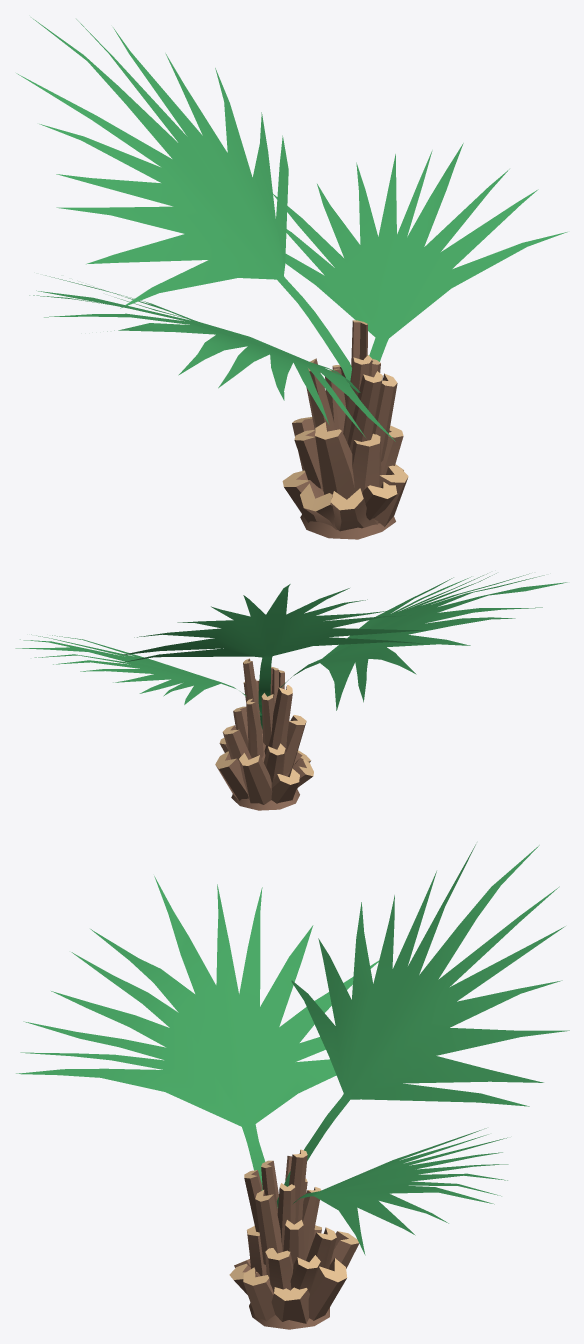
File: plant_cab_B.fbx
3 renders of one model, top to bottom at view 1: azimuth 30°, elevation 25°; view 2: azimuth 150°, elevation 25°; view 3: azimuth 270°, elevation 25°, orthographic. The views are drawn at different scales.
Parts seen in each view (by area): view 1: leaf_cab_B_02, leaf_cab_B_03, plant_cab_B_trunk, leaf_cab_B_01; view 2: plant_cab_B_trunk, leaf_cab_B_02, leaf_cab_B_01, leaf_cab_B_03; view 3: leaf_cab_B_01, leaf_cab_B_02, plant_cab_B_trunk, leaf_cab_B_03.
Part boxes in pixels (bbox=[...]): leaf_cab_B_02: bbox=[16, 17, 351, 384]; leaf_cab_B_03: bbox=[273, 143, 567, 361]; plant_cab_B_trunk: bbox=[282, 320, 408, 539]; leaf_cab_B_01: bbox=[29, 275, 395, 441]; plant_cab_B_trunk: bbox=[215, 658, 313, 810]; leaf_cab_B_02: bbox=[120, 584, 426, 714]; leaf_cab_B_01: bbox=[280, 573, 567, 710]; leaf_cab_B_03: bbox=[15, 634, 262, 729]; leaf_cab_B_01: bbox=[16, 876, 378, 1207]; leaf_cab_B_02: bbox=[277, 844, 569, 1207]; plant_cab_B_trunk: bbox=[229, 1149, 359, 1329]; leaf_cab_B_03: bbox=[293, 1128, 508, 1255].
Bounding box in the file's own units: 185 × 128 × 165.
